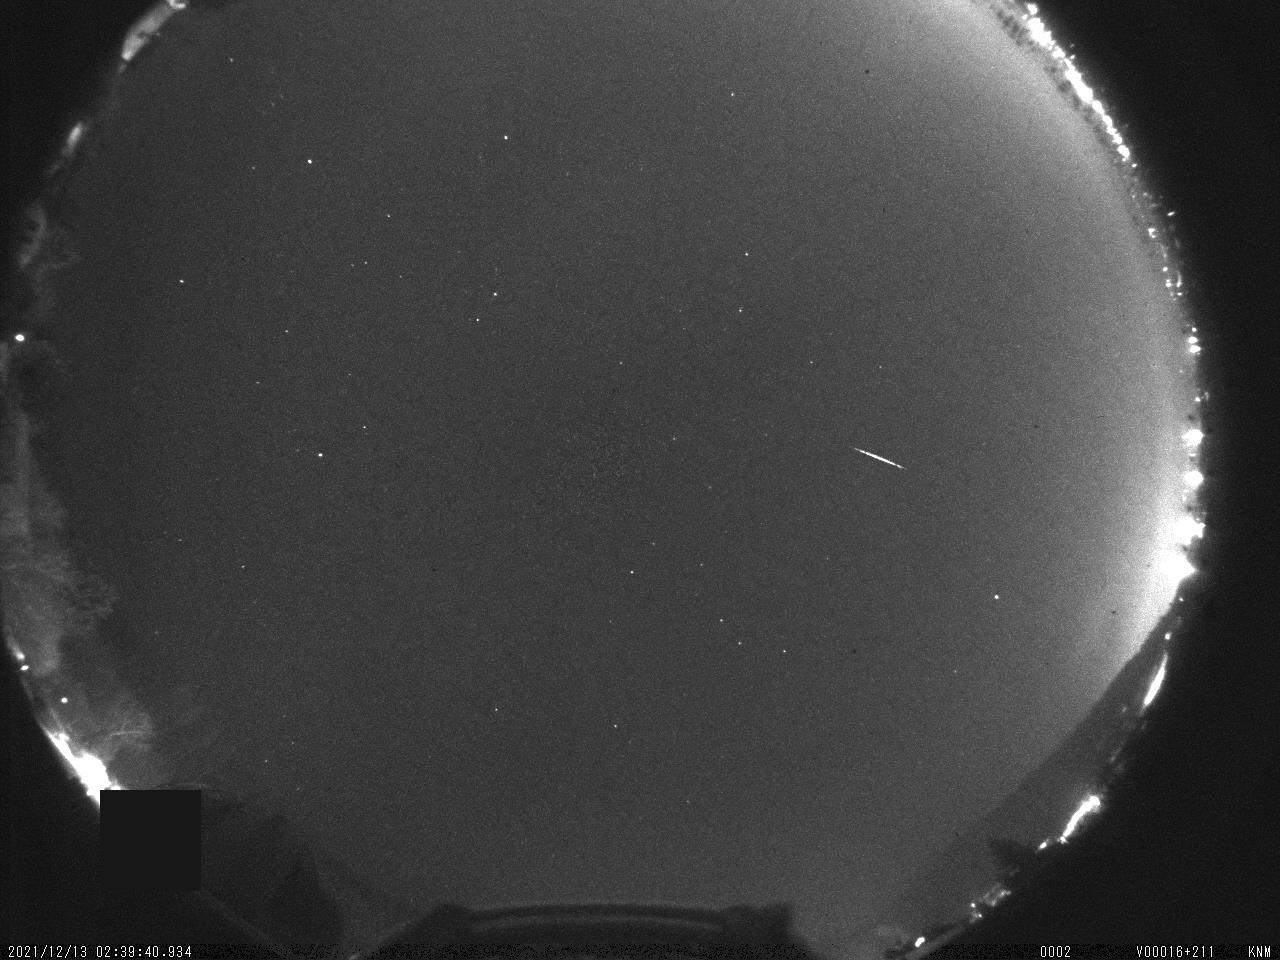meteor: (841, 441, 912, 474)
